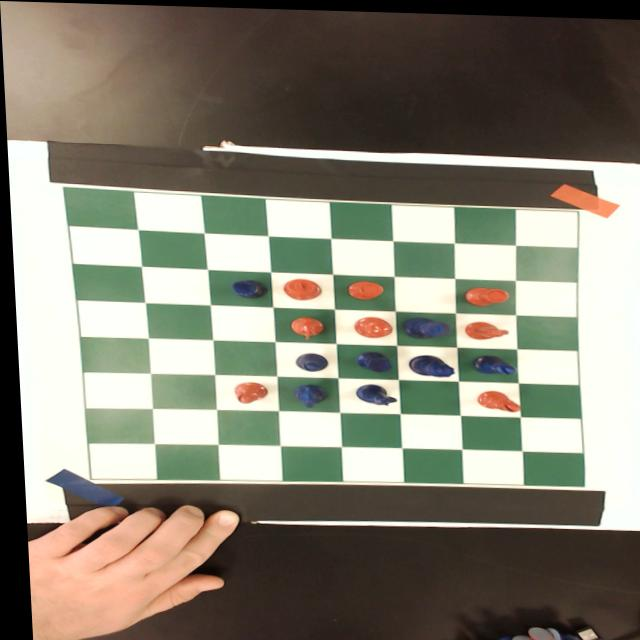B: (469, 351, 514, 372), (289, 349, 326, 370)
K: (397, 313, 451, 336)
N: (283, 380, 330, 409), (347, 379, 396, 404)
Q: (402, 351, 454, 376)
R: (352, 347, 389, 370), (227, 276, 266, 297)
b: (473, 386, 516, 409), (230, 379, 265, 402)
k: (277, 276, 321, 299)
n: (459, 317, 507, 337), (286, 313, 323, 337)
q: (350, 313, 390, 335)
r: (460, 282, 508, 304), (343, 277, 382, 298)
